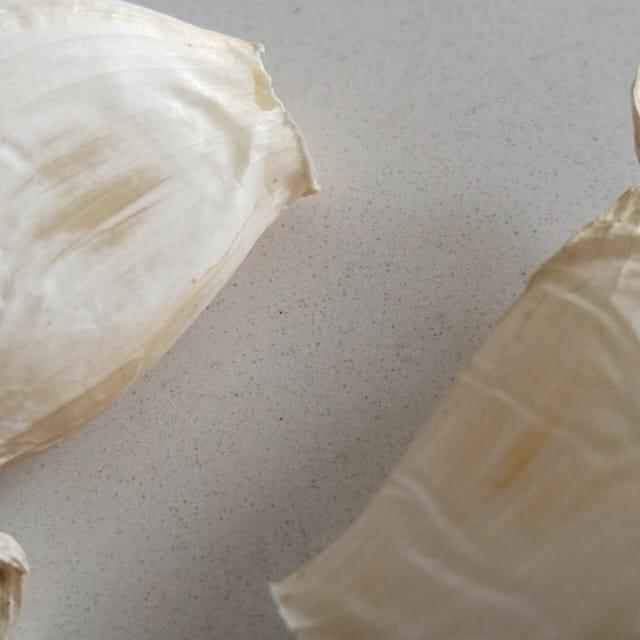garlic: (278, 40, 640, 640), (0, 0, 315, 618)
